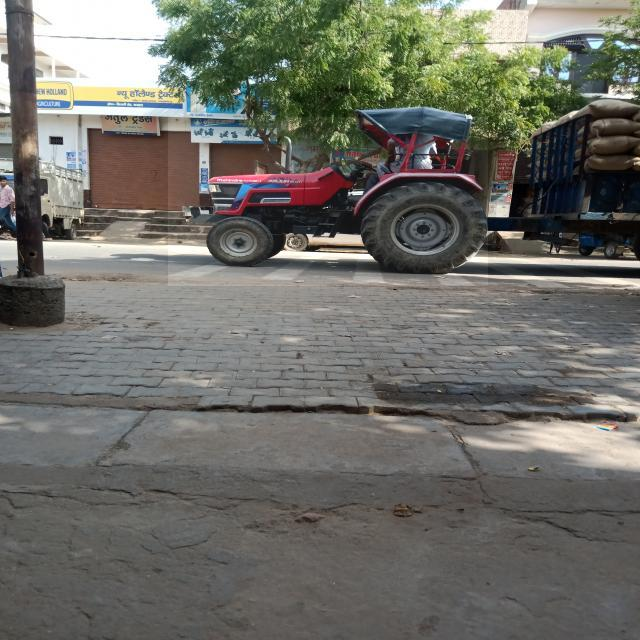Tractot: (168, 117, 488, 286)
